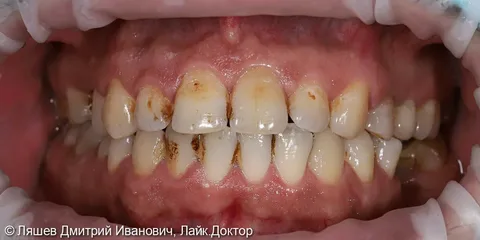LL1BC_decay: (343, 136, 377, 185)
LL2BC_healthy: (376, 140, 404, 179)
LLCI_decay: (237, 135, 274, 188)
LLC_healthy: (311, 134, 343, 186)
LLLI_decay: (273, 129, 314, 189)
LR1BC_healthy: (107, 137, 131, 174)
LRCI_decay: (200, 131, 235, 185)
LRC_decay: (131, 131, 167, 178)
LRLI_decay: (166, 132, 202, 180)
UL1BC_healthy: (369, 93, 395, 141)
ULCI_decay: (230, 63, 289, 136)
ULC_decay: (329, 78, 369, 138)
ULLI_decay: (287, 81, 330, 132)
URCI_decay: (171, 70, 229, 135)
URC_decay: (103, 77, 134, 139)
URLI_decay: (133, 85, 176, 132)
